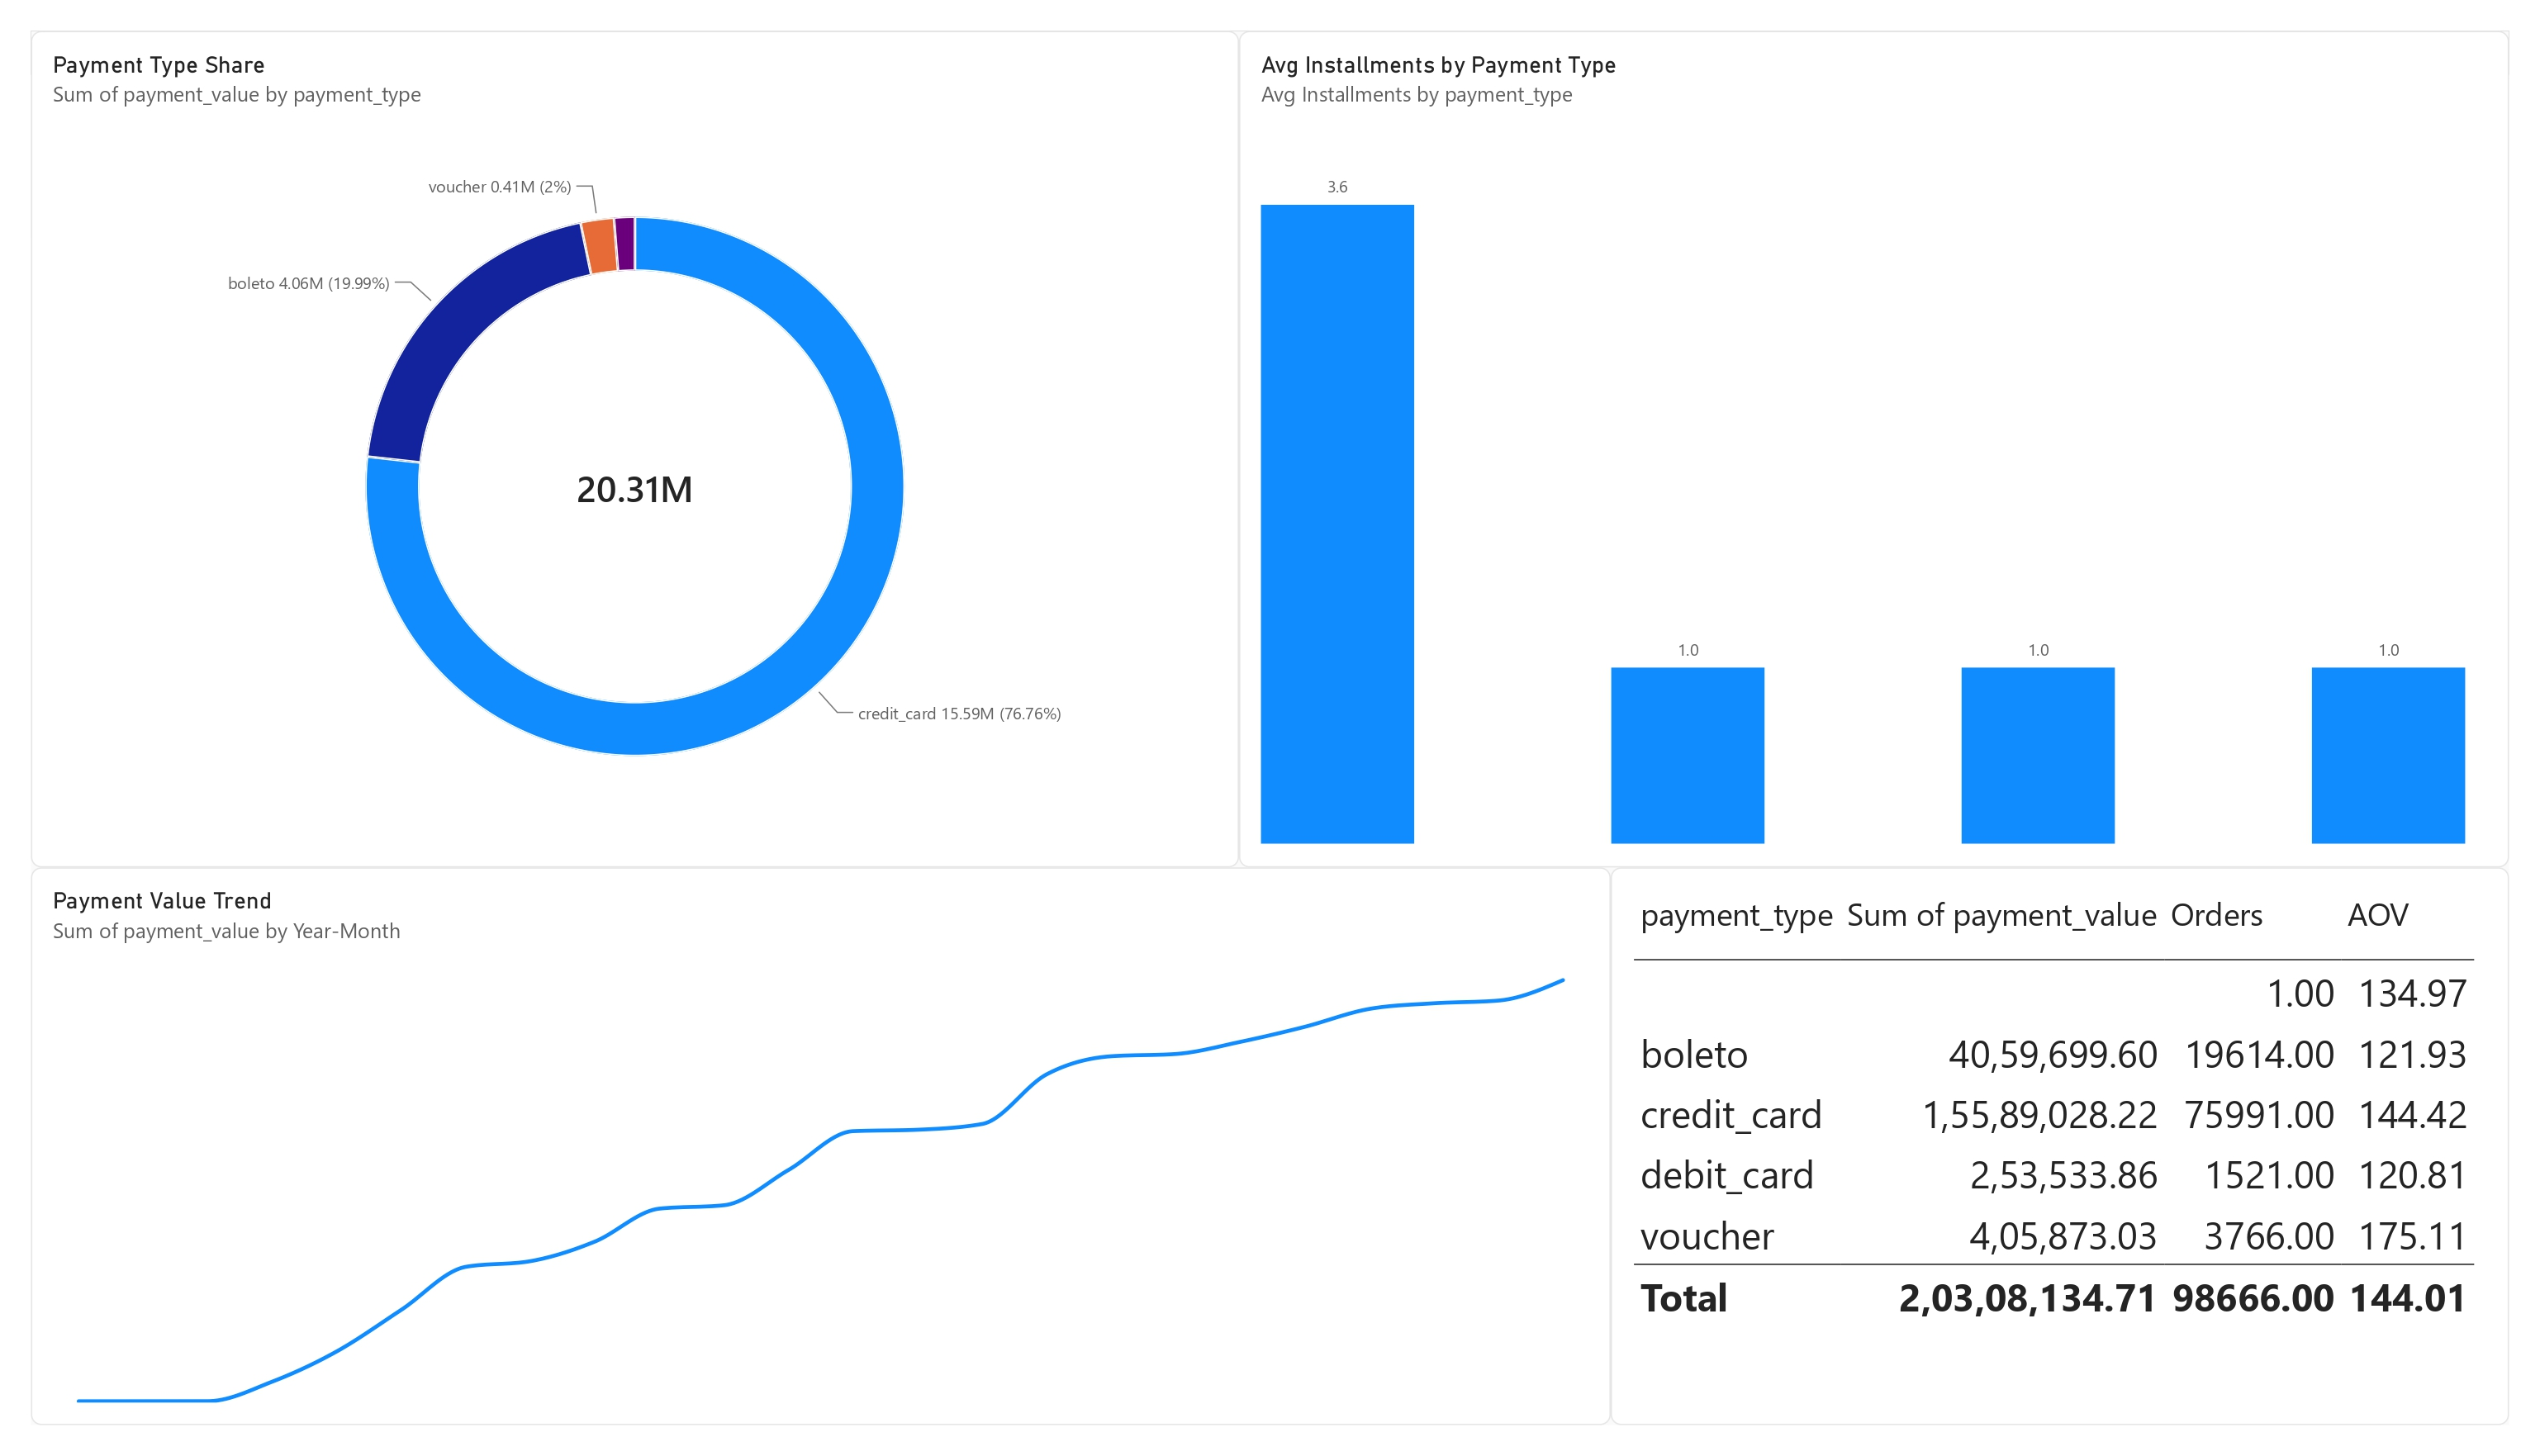

The page's visual inventory and layout, read from the dashboard file:
{"tool":"powerbi","page":{"name":"Payments","canvas":[1920,1080],"ordinal":6},"visuals":[{"type":"donutChart","title":"Payment Type Share","fields":{"Category":["public bi_fact_sales.payment_type"],"Y":["Sum(public bi_fact_sales.payment_value)"]},"box":[0,0,936,648],"z":0},{"type":"clusteredColumnChart","title":"Avg Installments by Payment Type","fields":{"Category":["public bi_fact_sales.payment_type"],"Y":["public bi_fact_sales.Avg Installments"]},"box":[936,0,984,648],"z":1000},{"type":"lineChart","title":"Payment Value Trend","fields":{"Category":["DimDate.Year-Month"],"Y":["Sum(public bi_fact_sales.payment_value)"]},"box":[0,648,1224,432],"z":2000},{"type":"tableEx","fields":{"Values":["public bi_fact_sales.payment_type","Sum(public bi_fact_sales.payment_value)","public bi_fact_sales.Orders","public bi_fact_sales.AOV"]},"box":[1224,648,696,432],"z":3000}]}

Visuals, with their boxes on the page's 1920x1080 design canvas (x1, y1, x2, y2). These are canvas units, not pixel positions in the 2540x1456 screenshot, which may show the page scaled, cropped or inside an application window:
"Payment Type Share" donutChart: x1=0, y1=0, x2=936, y2=648
"Avg Installments by Payment Type" clusteredColumnChart: x1=936, y1=0, x2=1920, y2=648
"Payment Value Trend" lineChart: x1=0, y1=648, x2=1224, y2=1080
tableEx - public bi_fact_sales.payment_type x Sum(public bi_fact_sales.payment_value): x1=1224, y1=648, x2=1920, y2=1080
